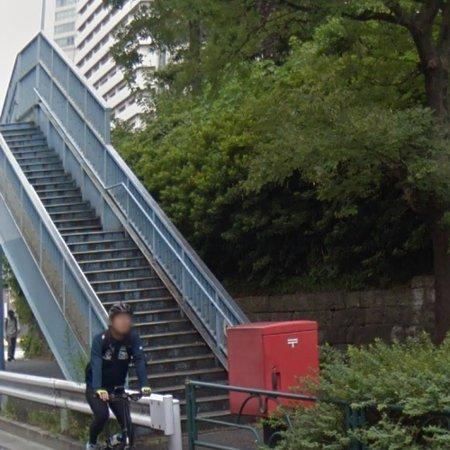stairs: (0, 123, 226, 400)
